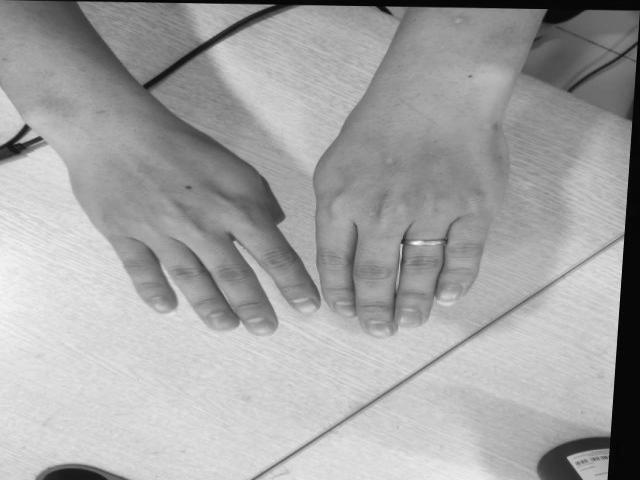not-gloved: (68, 106, 320, 334), (314, 108, 507, 338)
